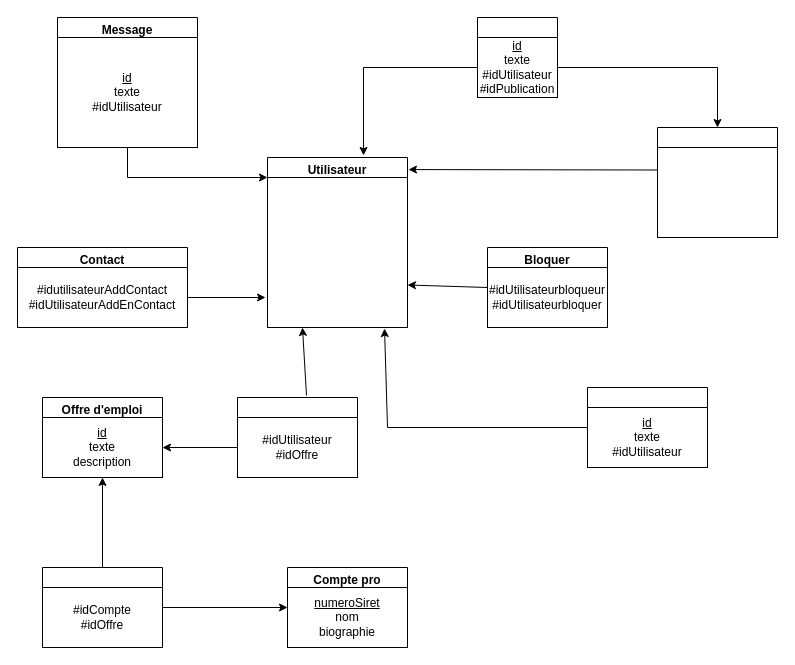
Image size: 795x665. Some labels were removed from this diagram. The shapes that lost their labels are listed below. From the top down, each one's box as (x1, y1, x2, y2) in pixels, then its label:
(476, 16, 558, 98): Comentaire
(656, 126, 778, 238): Publication
(656, 146, 778, 238): id description image #idUtilisateur
(266, 176, 408, 328): id nom prenom pseudo datenaissance biographie sexe motdepasse
(236, 396, 358, 478): Postuler
(586, 386, 708, 468): Message FAQ
(42, 566, 162, 648): Creer
